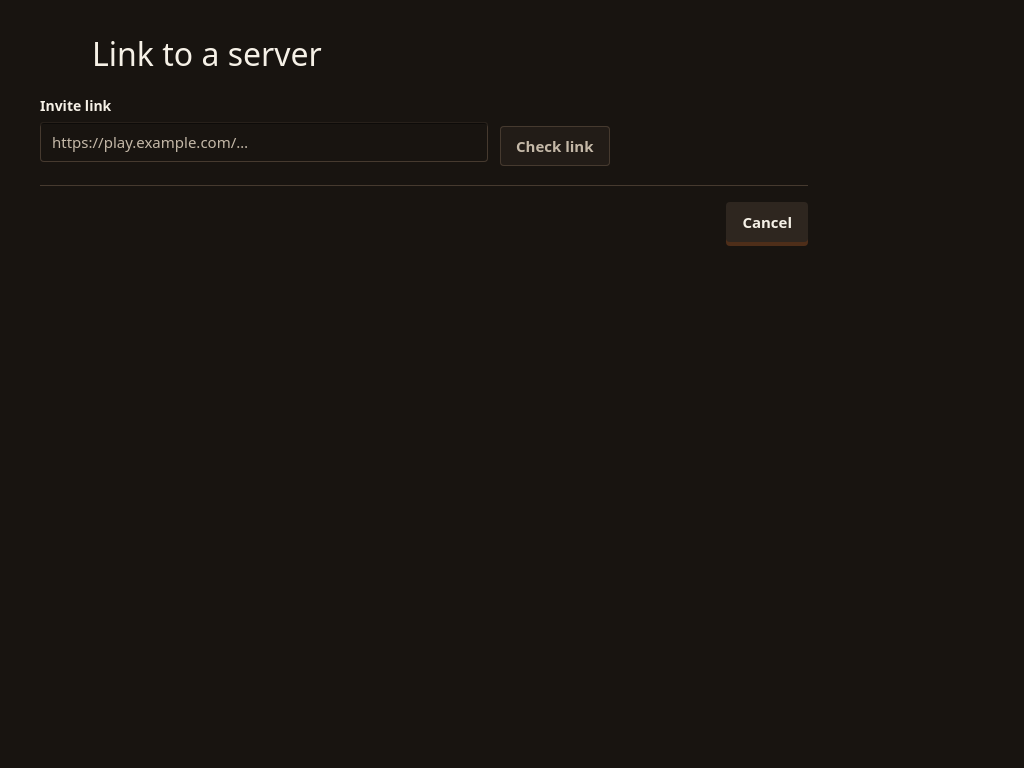
JoinServer › warns when linking moves the instance to another game version
This screenshot has width=1024, height=768.
Step 1. Type "https://play.example.com/BBBBBBBBBBBBBBBBBBBBBBBBBBBBBBBBBBBBBBBBBBB" into the field labelled "Invite link" → (264, 142), box [40, 122, 488, 162]
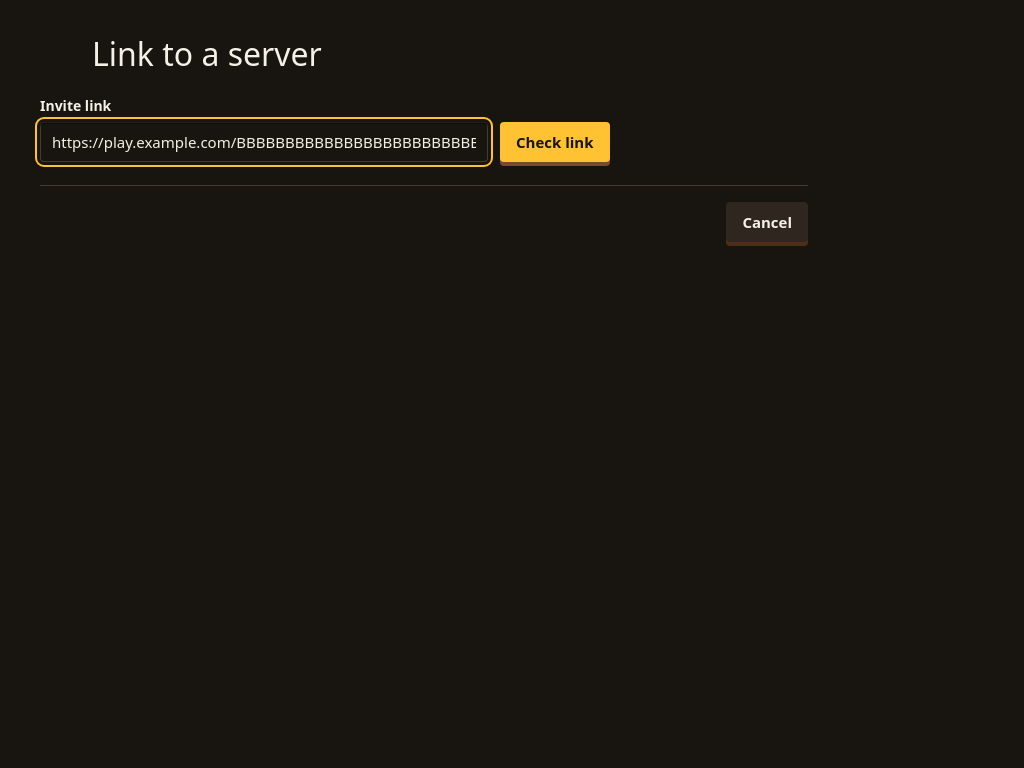
Step 2. Click the button "Check link" → (555, 142), box [500, 122, 610, 162]
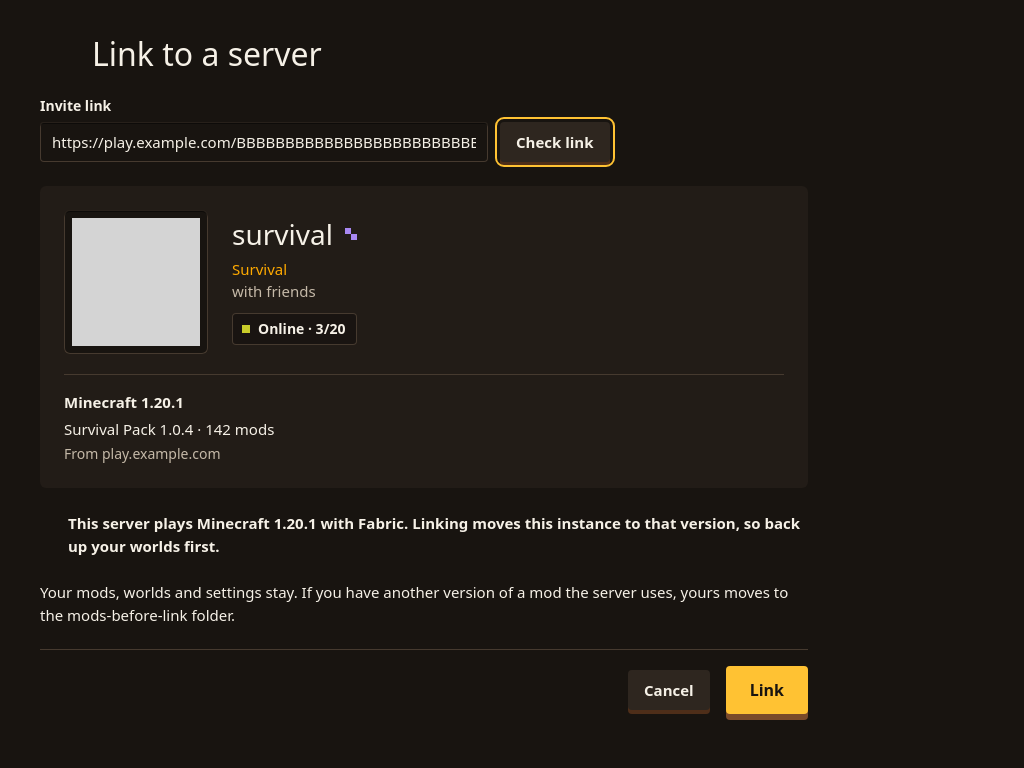
Now the text "This server plays Minecraft 1.20.1 with Fabric. Linking moves this instance to that version, so back up your worlds firs" is shown, box [68, 513, 800, 556]
